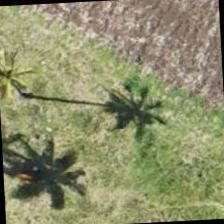Kelapa_Sawit: (0, 24, 68, 118)
